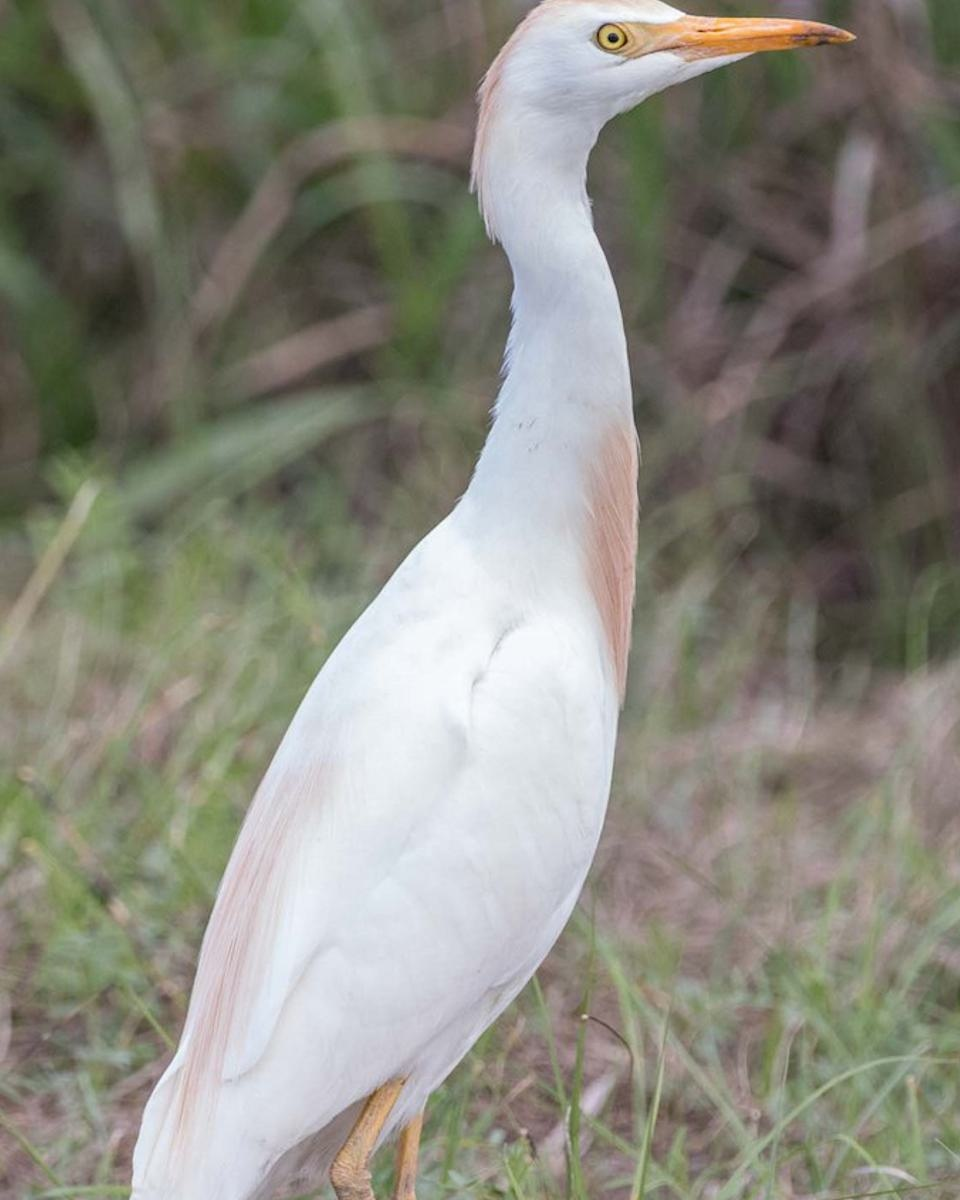egret: (117, 5, 856, 1200)
